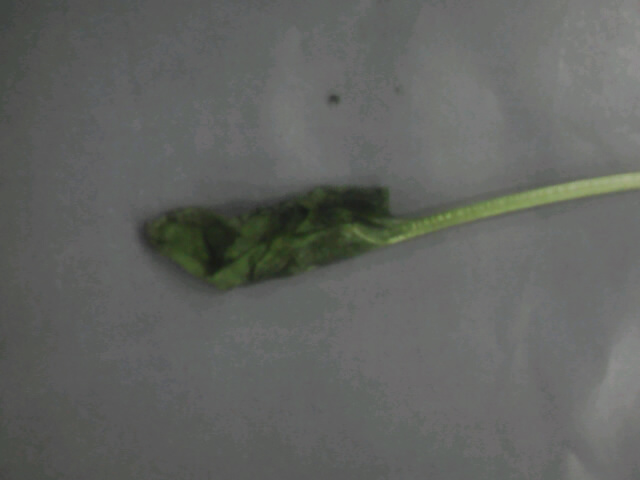yellow: (134, 167, 607, 308)
